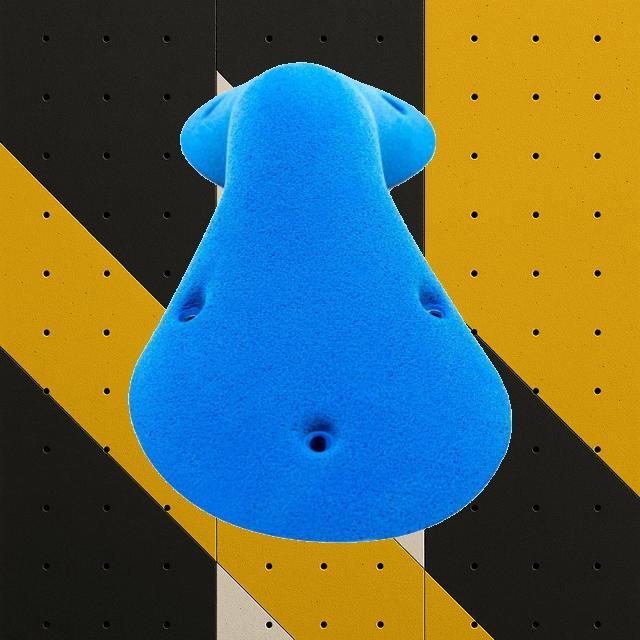Jug: (128, 61, 512, 543)
